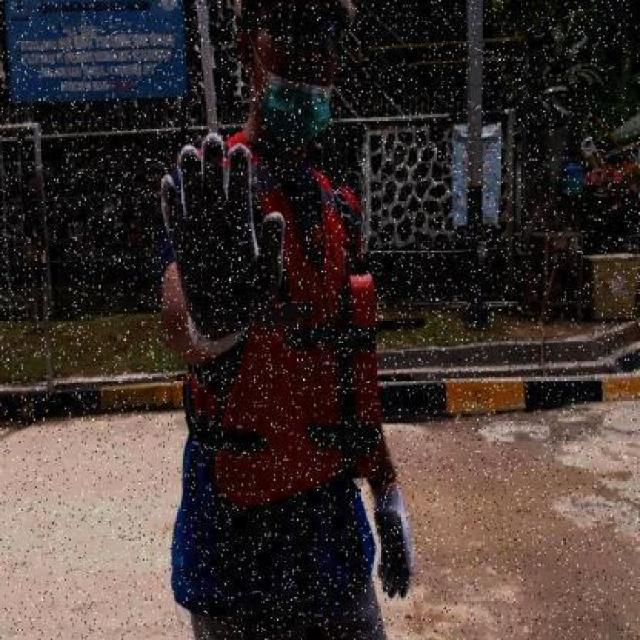Gloves: (162, 134, 286, 358), (373, 479, 415, 599)
Mask: (258, 68, 334, 149)
Protective Glasses: (268, 1, 346, 62)
Vest: (215, 278, 378, 518)
